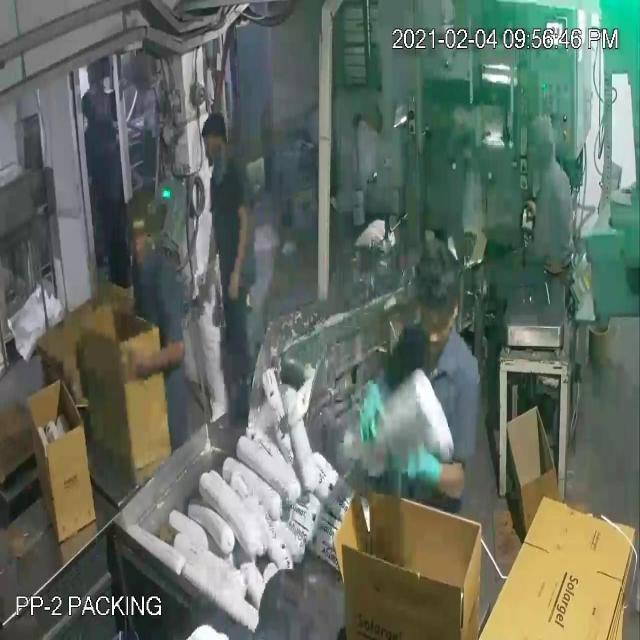No_Gloves: (27, 62, 437, 474)
